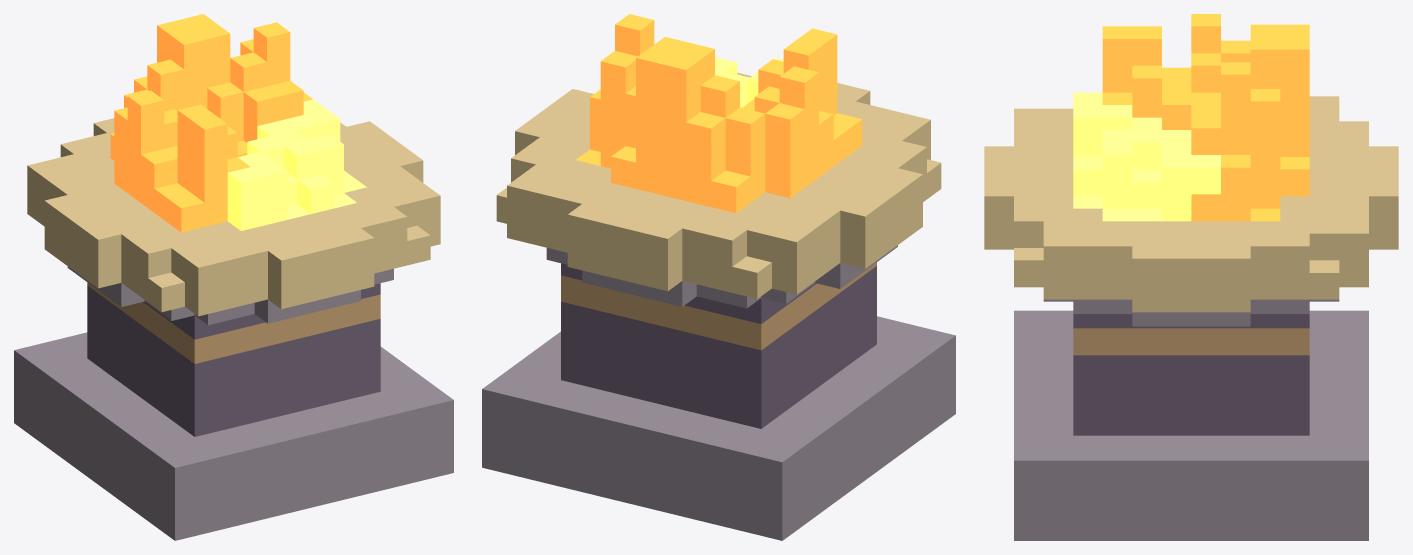
The model's file is ashen_brazier.glb.
The picture shows the model from 3 angles, left to right: view 1: azimuth 30°, elevation 25°; view 2: azimuth 150°, elevation 25°; view 3: azimuth 270°, elevation 25°; orthographic projection. The views are drawn at different scales.
Size of the model in its own units: 0.875 by 1 by 0.875.
